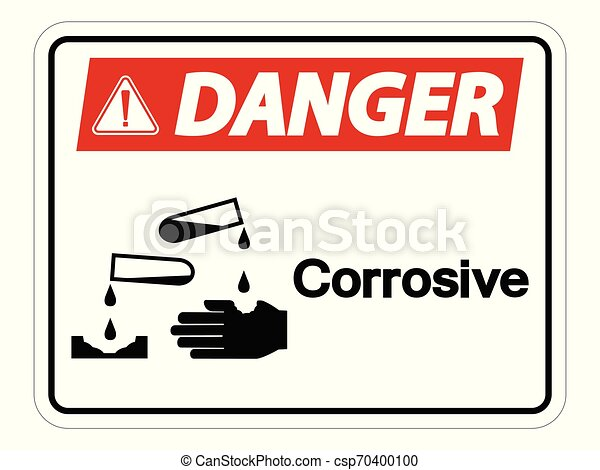Corrosive: (35, 21, 567, 429)
